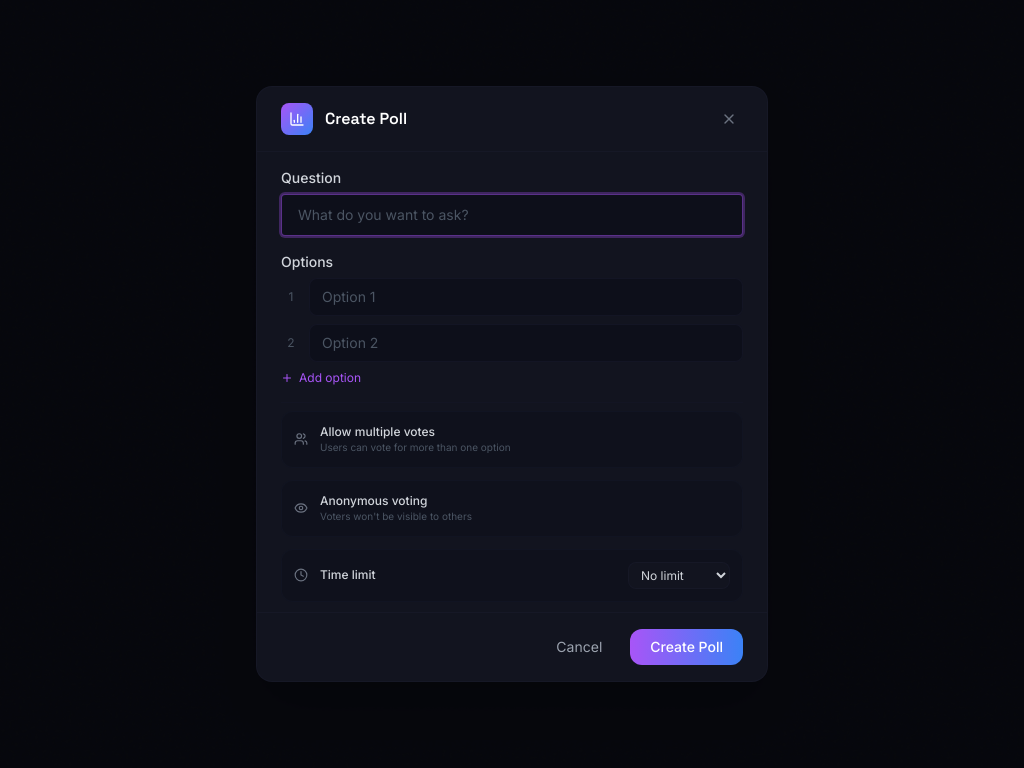
Test: CreatePollModal › adds option when add button clicked
Click the button "Add option": x=321, y=378 [281, 370, 361, 386]
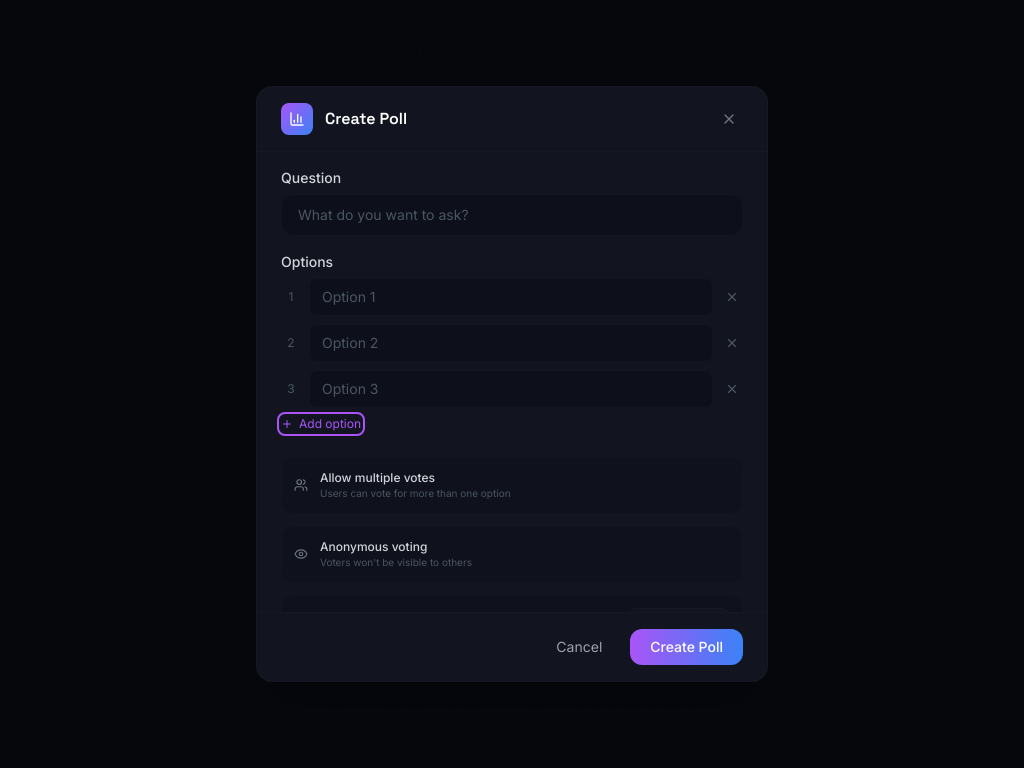
Check: the field with placeholder "Option 3" is shown, box [309, 370, 713, 408]
